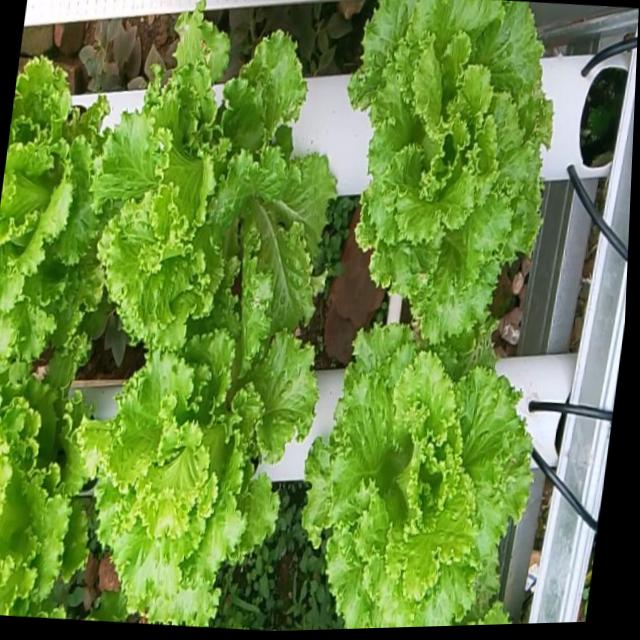Mature: (55, 0, 316, 339), (36, 317, 296, 619), (329, 0, 541, 358), (278, 318, 516, 629)
